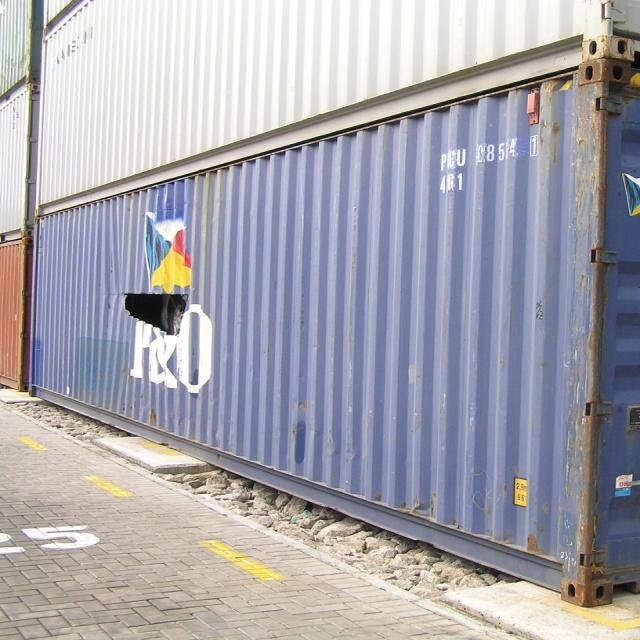hole: (113, 286, 199, 340)
